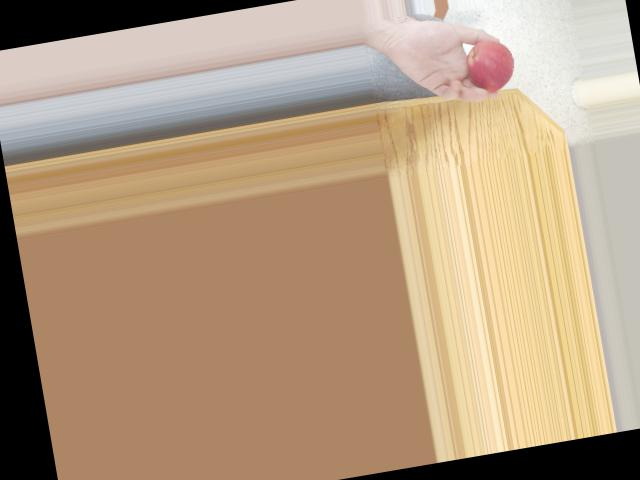apple: (462, 33, 520, 96)
